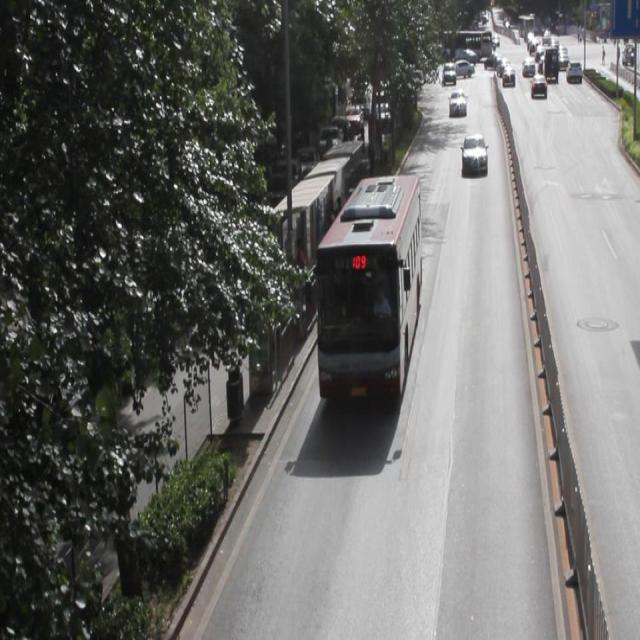car: (460, 133, 488, 175), (447, 90, 464, 115)
van: (316, 174, 420, 402)
